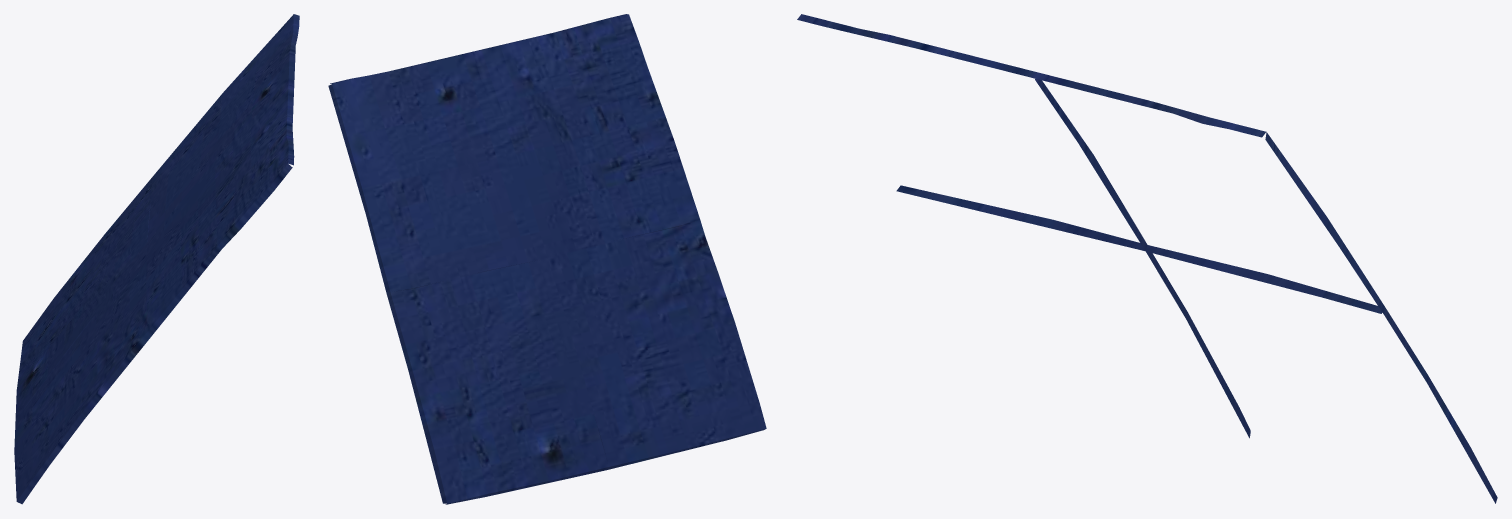
The picture shows the model from 3 angles, left to right: view 1: azimuth 30°, elevation 25°; view 2: azimuth 150°, elevation 25°; view 3: azimuth 270°, elevation 25°; orthographic projection. The views are drawn at different scales.
Bounding box in the file's own units: 583244 × 510246 × 627233.
1 material, 1 textured.
